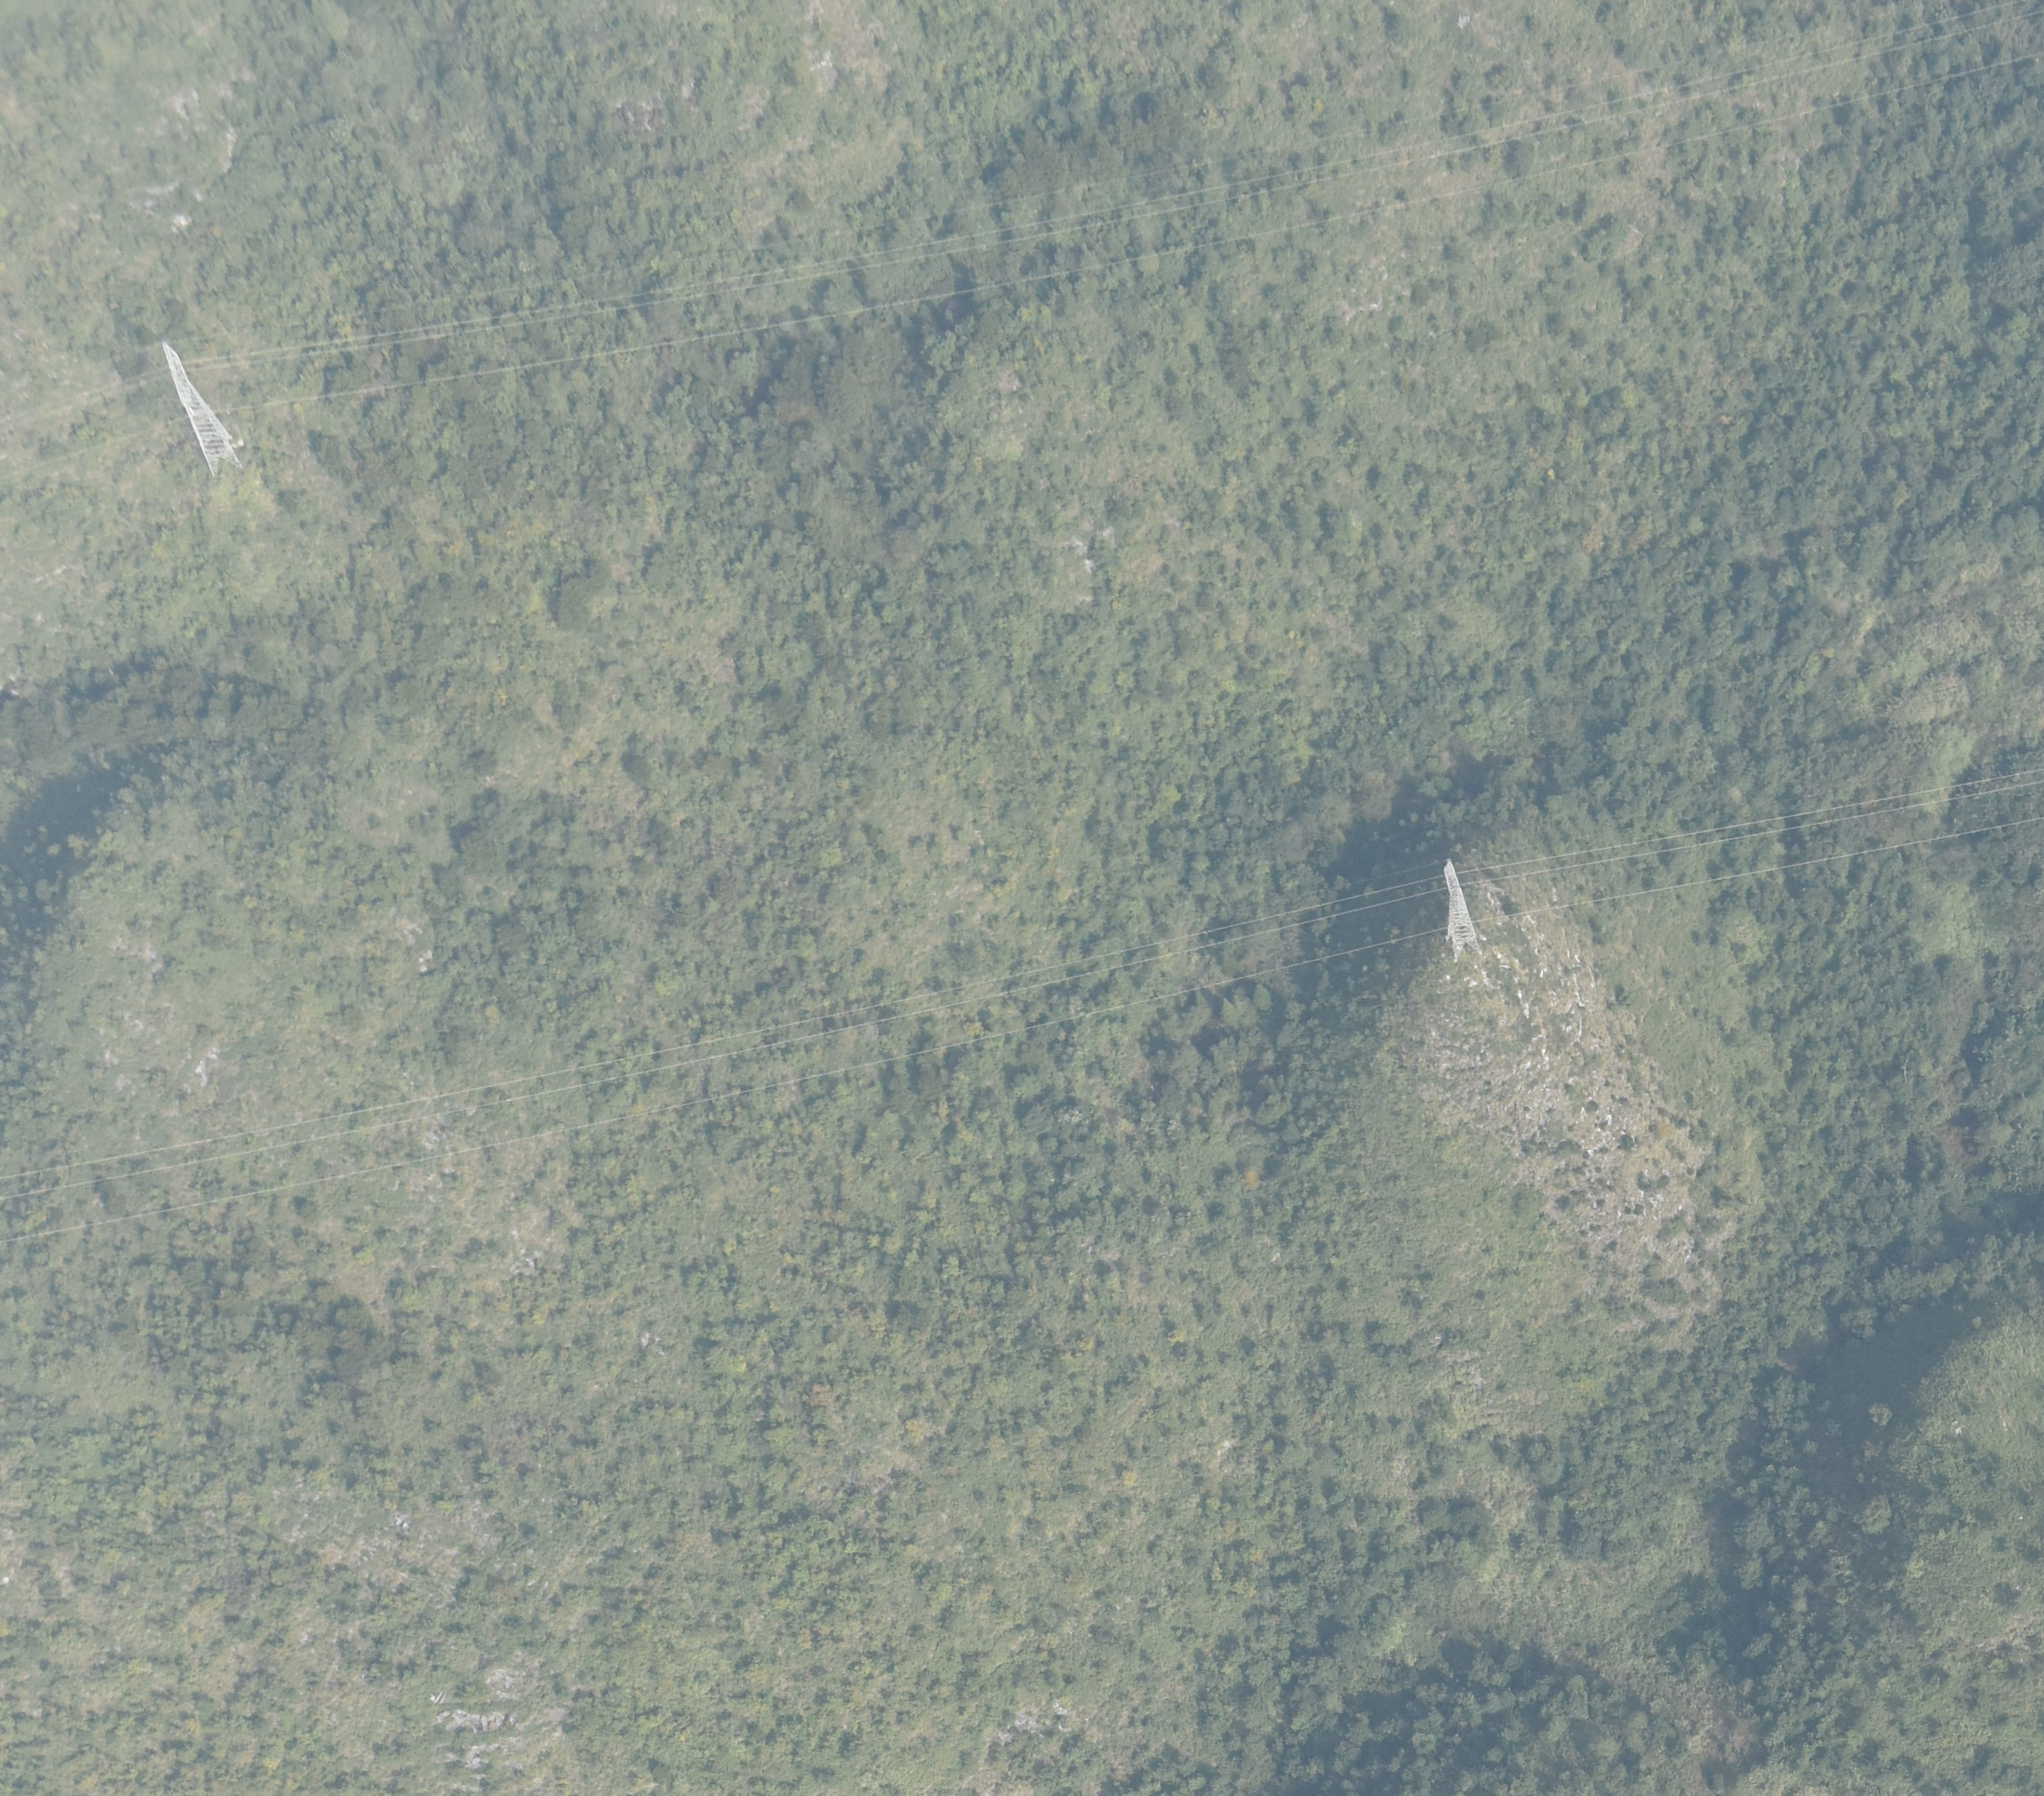cable-tower: (162, 340, 244, 477), (1443, 857, 1482, 960)
